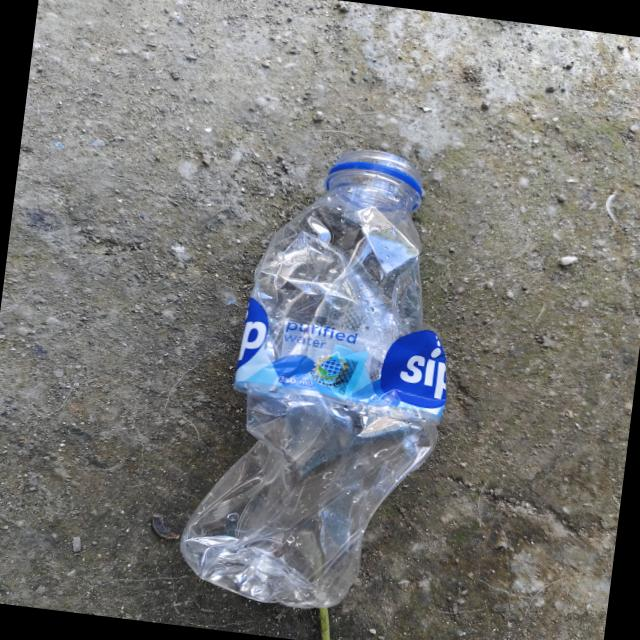Bottle: (179, 149, 444, 608)
